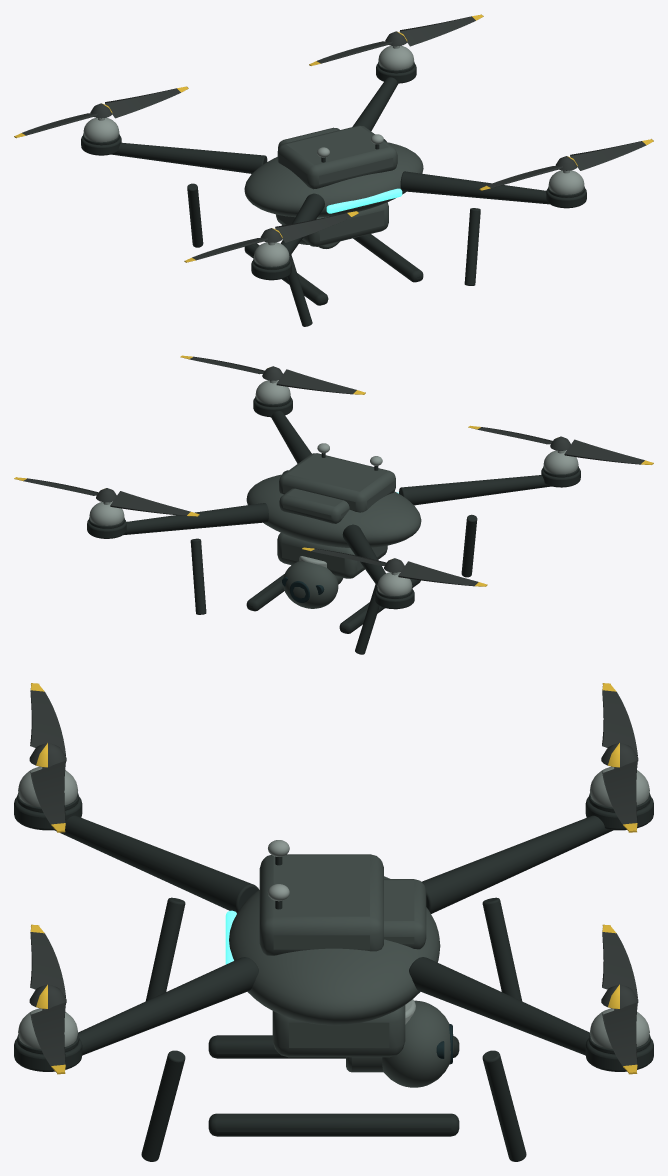
The model's file is fieldvision-drone.glb.
3 views of the same model, one above another, from view 1: azimuth 30°, elevation 25°; view 2: azimuth 150°, elevation 25°; view 3: azimuth 270°, elevation 25° (orthographic). The views are drawn at different scales.
Parts seen in each view (by area): view 1: Fuselage, Battery, Arm_RR, Arm_FL, SprayTank, Rotor_FL, Rotor_RL, Rotor_FR, Rotor_RR, LandingRail_0.92, Arm_FR, Foot_RR (+11 smaller); view 2: Fuselage, Battery, Arm_FR, Arm_RL, SprayTank, SensorGimbal, AvionicsHump, Rotor_FR, Rotor_RR, Rotor_RL, Rotor_FL, Arm_FL (+12 smaller); view 3: Fuselage, Battery, LandingRail_0.92, Arm_RL, Arm_FR, Arm_RR, Arm_FL, SprayTank, Rotor_FL, Rotor_FR, Rotor_RL, Rotor_RR (+15 smaller).
Boxes of the visible parts, x1,y1,x2,y2 form: Fuselage: [244, 142, 423, 217]; Battery: [277, 125, 397, 189]; Arm_RR: [400, 171, 549, 204]; Arm_FL: [111, 142, 267, 173]; SprayTank: [276, 202, 388, 246]; Rotor_FL: [14, 86, 188, 138]; Rotor_RL: [184, 211, 358, 262]; Rotor_FR: [309, 14, 483, 65]; Rotor_RR: [479, 139, 653, 190]; LandingRail_0.92: [353, 234, 423, 282]; Arm_FR: [352, 77, 397, 130]; Foot_RR: [464, 208, 480, 285]; Fuselage: [246, 474, 421, 547]; Battery: [279, 453, 395, 512]; Arm_FR: [123, 503, 268, 535]; Arm_RL: [399, 475, 551, 505]; SprayTank: [277, 533, 387, 578]; SensorGimbal: [283, 561, 338, 608]; AvionicsHump: [279, 488, 349, 523]; Rotor_FR: [14, 477, 199, 516]; Rotor_RR: [180, 355, 365, 394]; Rotor_RL: [468, 425, 653, 464]; Rotor_FL: [302, 547, 487, 586]; Arm_FL: [342, 524, 397, 609]; Fuselage: [229, 876, 440, 1025]; Battery: [259, 854, 383, 955]; LandingRail_0.92: [208, 1113, 459, 1136]; Arm_RL: [54, 815, 258, 913]; Arm_FR: [409, 957, 589, 1055]; Arm_RR: [78, 957, 258, 1055]; Arm_FL: [421, 815, 613, 913]; SprayTank: [272, 1005, 405, 1057]; Rotor_FL: [601, 683, 638, 832]; Rotor_FR: [601, 924, 638, 1074]; Rotor_RL: [29, 683, 66, 832]; Rotor_RR: [29, 924, 66, 1074].
Size of the model in its own units: 9.18 by 2.55 by 6.38.
